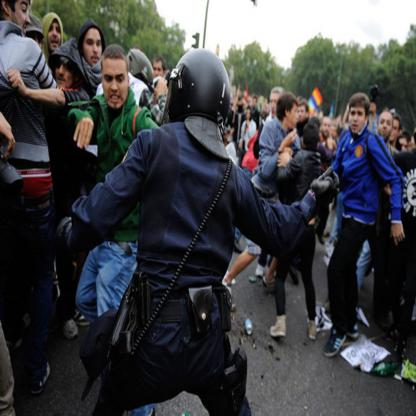face: (103, 67, 129, 109), (10, 1, 31, 37), (55, 57, 75, 92), (85, 35, 103, 68), (27, 31, 43, 58), (48, 25, 63, 53), (379, 114, 393, 140), (351, 110, 365, 134), (272, 96, 282, 118), (390, 121, 401, 141), (154, 63, 165, 81), (289, 109, 298, 129), (399, 140, 408, 156), (298, 109, 307, 123), (323, 122, 331, 137), (371, 104, 376, 112), (247, 111, 251, 120), (254, 100, 257, 107), (239, 93, 242, 98), (248, 101, 250, 104)
